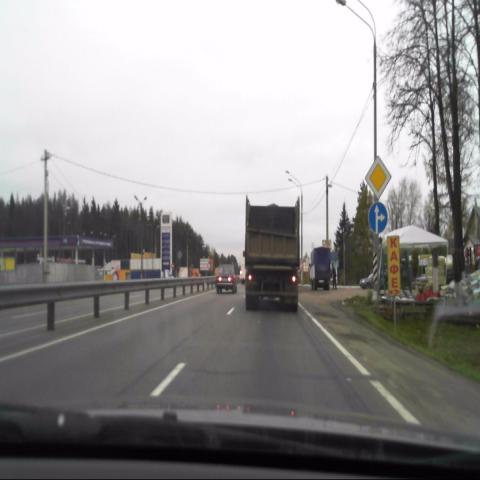4_1_4: (368, 201, 386, 234)
